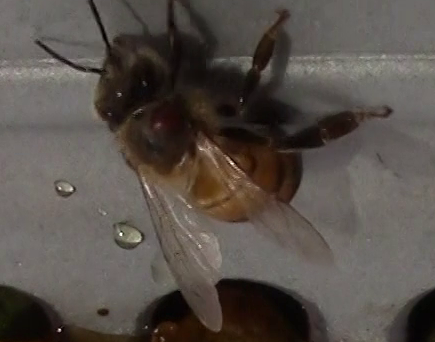Varroa destructor: (147, 103, 185, 139)
